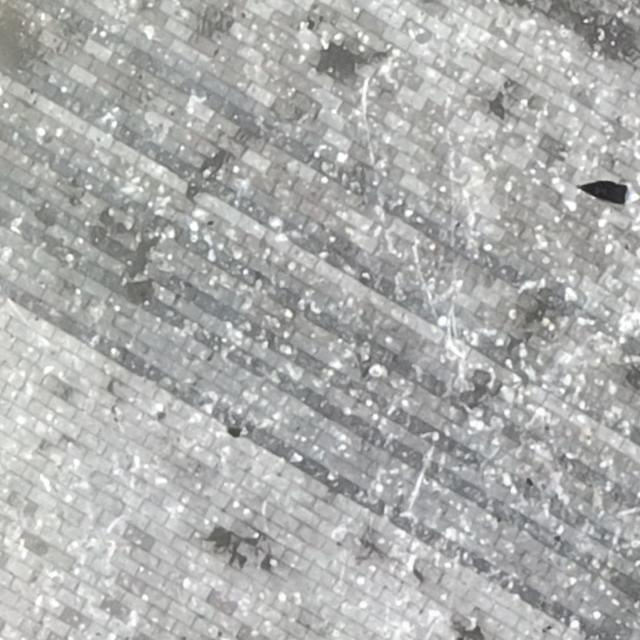umineko: (590, 183, 638, 204)
